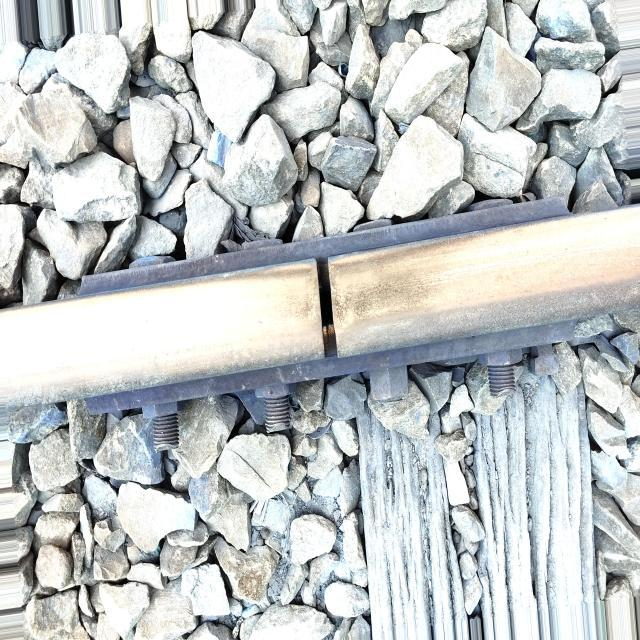Good Joint: (77, 193, 585, 446)
